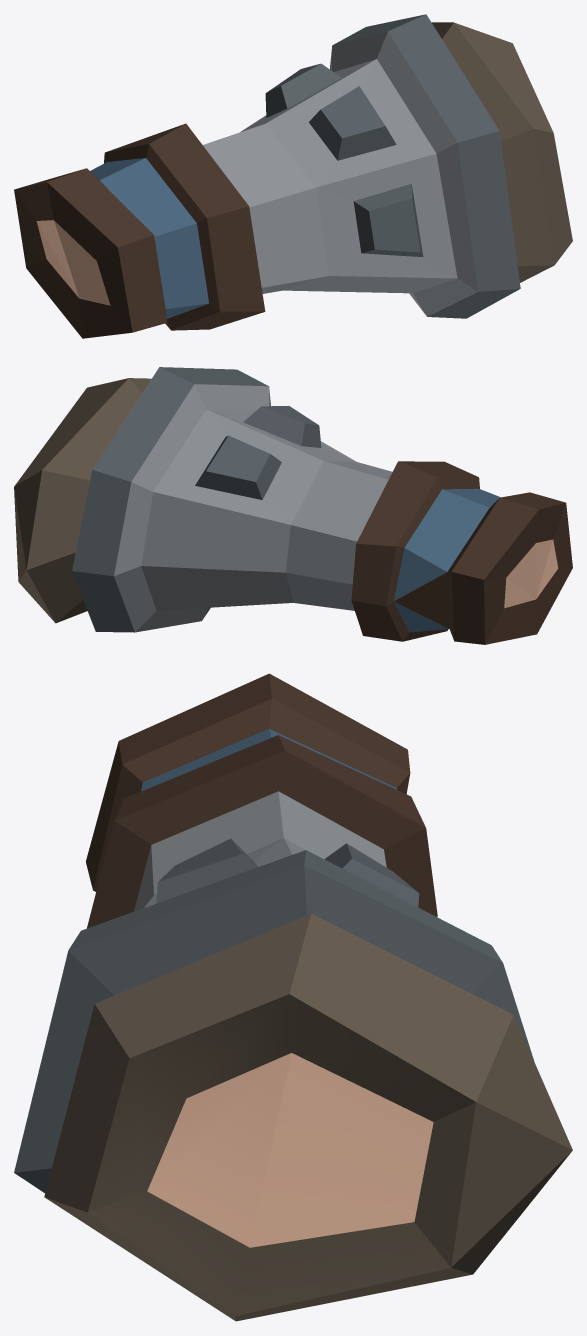
File: Chr_ArmLowerRight_Male_15_Static.fbx
3 renders of one model, top to bottom at view 1: azimuth 30°, elevation 25°; view 2: azimuth 150°, elevation 25°; view 3: azimuth 270°, elevation 25°, orthographic. The views are drawn at different scales.
Visible parts, largest first — view 1: Chr_ArmLowerRight_Male_15_Static; view 2: Chr_ArmLowerRight_Male_15_Static; view 3: Chr_ArmLowerRight_Male_15_Static.
Part boxes in pixels (x1,y1,x2,y2): Chr_ArmLowerRight_Male_15_Static: (14, 14, 572, 338); Chr_ArmLowerRight_Male_15_Static: (14, 367, 572, 644); Chr_ArmLowerRight_Male_15_Static: (14, 673, 572, 1321).
Bounding box in the file's own units: 0.3002 × 0.169 × 0.1952.
